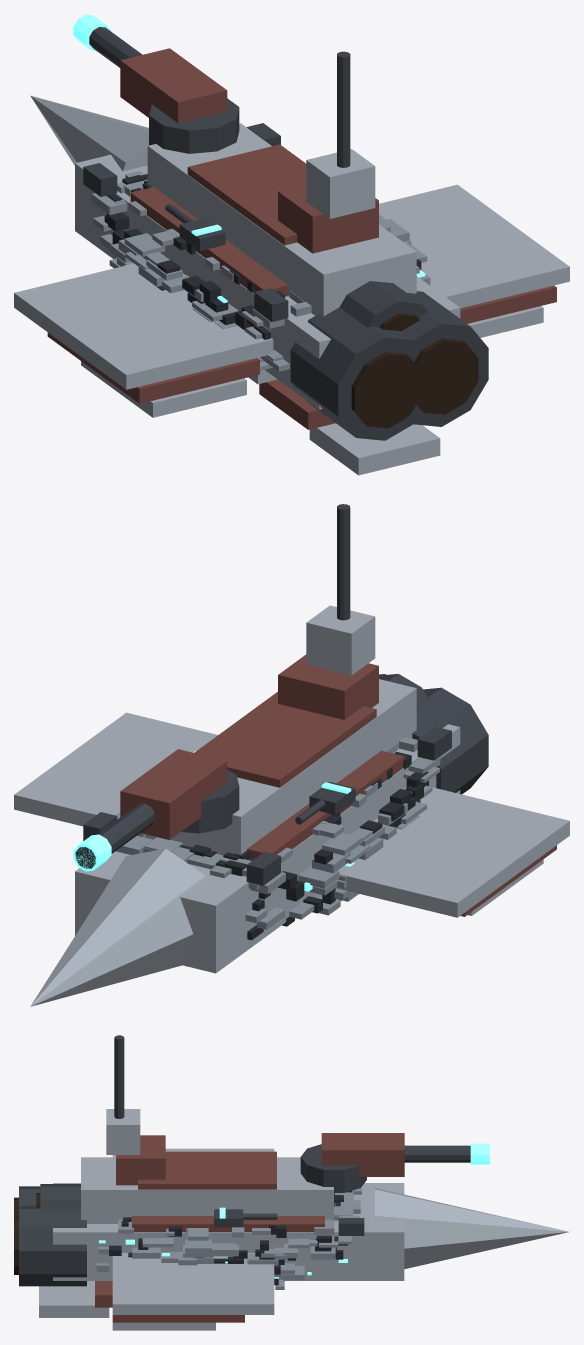
File: troyden_cruiser.glb
The picture shows the model from 3 angles, top to bottom: view 1: azimuth 30°, elevation 25°; view 2: azimuth 150°, elevation 25°; view 3: azimuth 270°, elevation 25°; orthographic projection. The views are drawn at different scales.
Parts seen in each view (by area): view 1: hull, engines, turret_0, aux_0, pd_0, pd_2; view 2: hull, turret_0, engines, aux_0, pd_0, pd_2; view 3: hull, turret_0, engines, aux_1, pd_1.
Part boxes in pixels (x1,y1,x2,y2): hull: (14, 51, 569, 475); engines: (290, 281, 488, 440); turret_0: (73, 14, 239, 153); aux_0: (165, 204, 225, 251); pd_0: (83, 163, 117, 196); pd_2: (254, 288, 288, 321); hull: (14, 504, 569, 1006); turret_0: (73, 749, 239, 871); engines: (379, 673, 488, 794); aux_0: (295, 782, 355, 824); pd_0: (246, 852, 280, 885); pd_2: (417, 726, 451, 760); hull: (39, 1035, 569, 1330); turret_0: (300, 1133, 489, 1192); engines: (14, 1184, 86, 1286); aux_1: (214, 1207, 277, 1227); pd_1: (338, 1218, 364, 1235).
Size of the model in its own units: 74.75 by 59.6 by 113.
